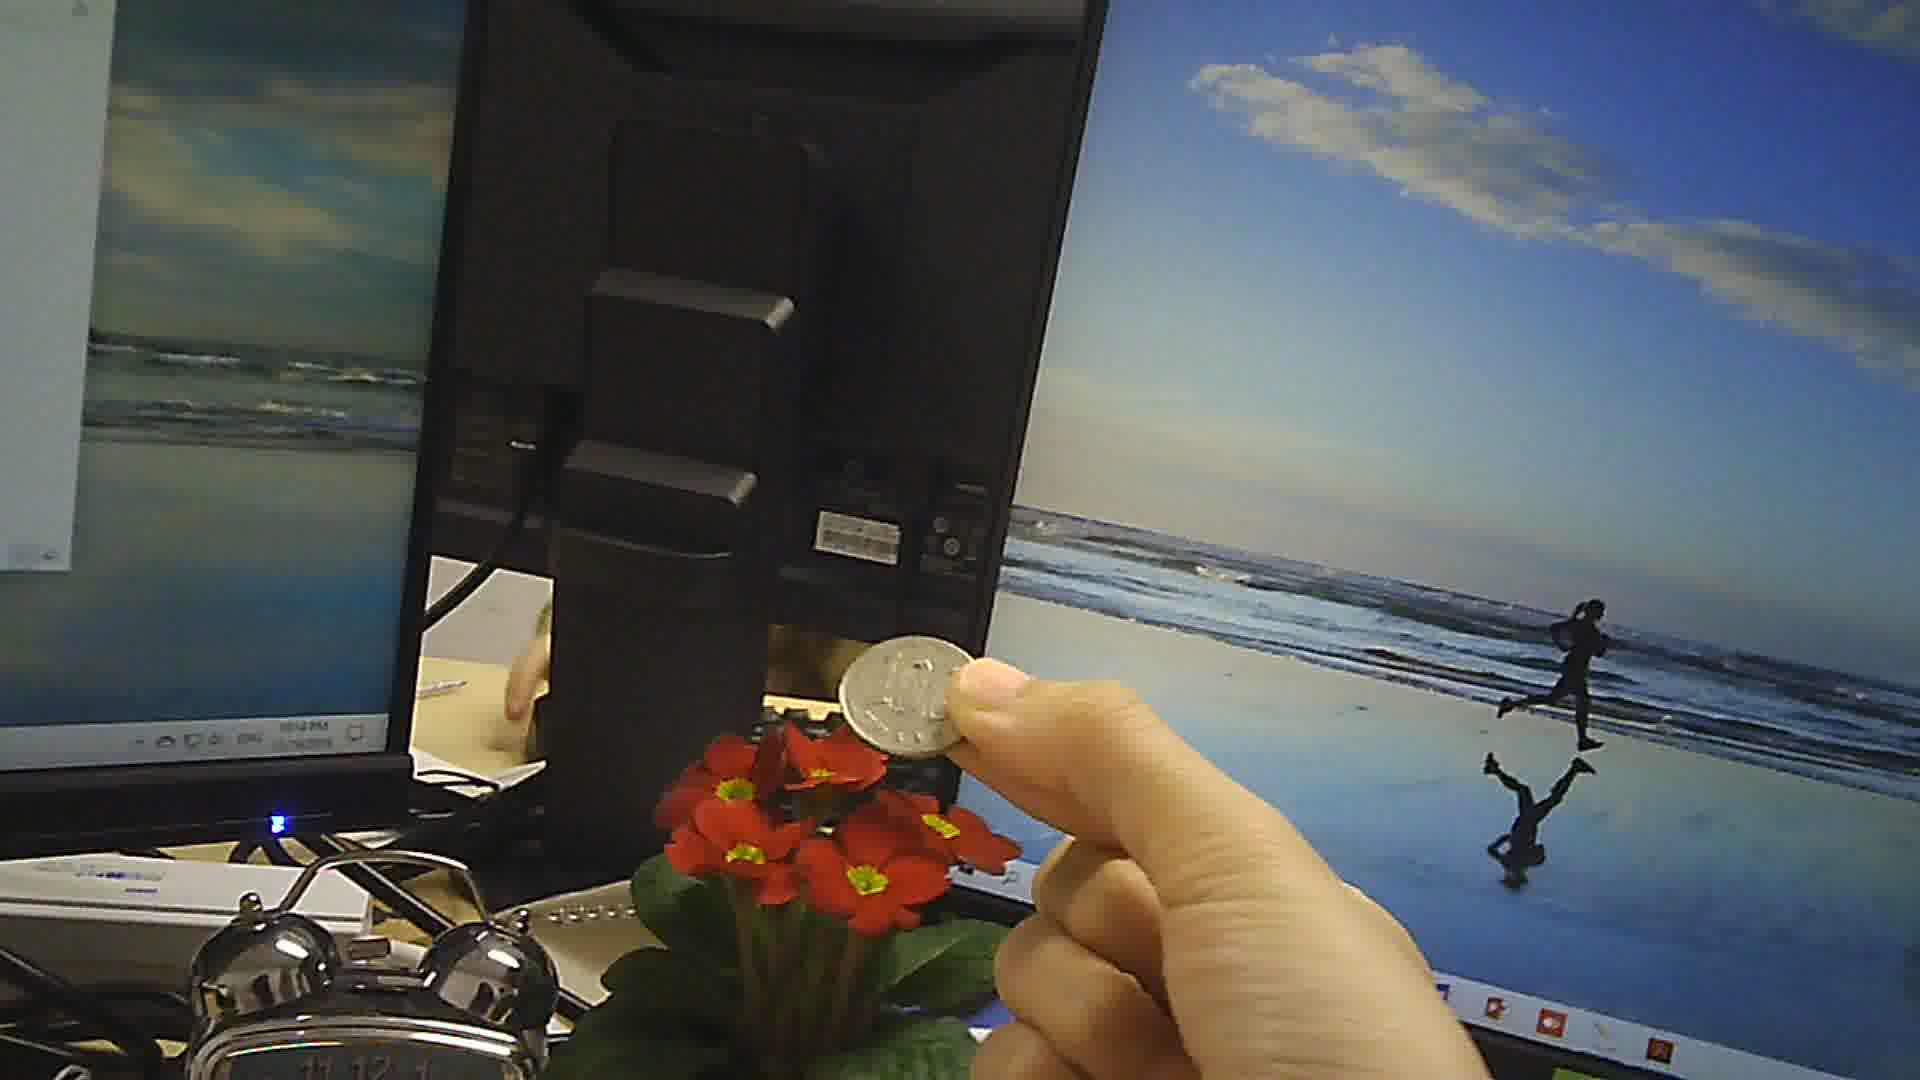100 Yen: (833, 629, 988, 773)
